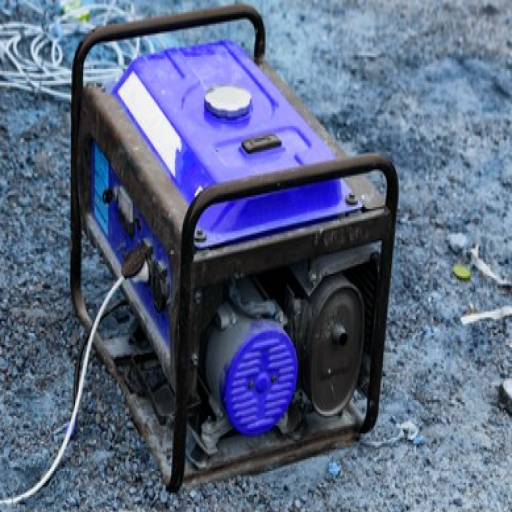portable_generator: (71, 2, 400, 494)
